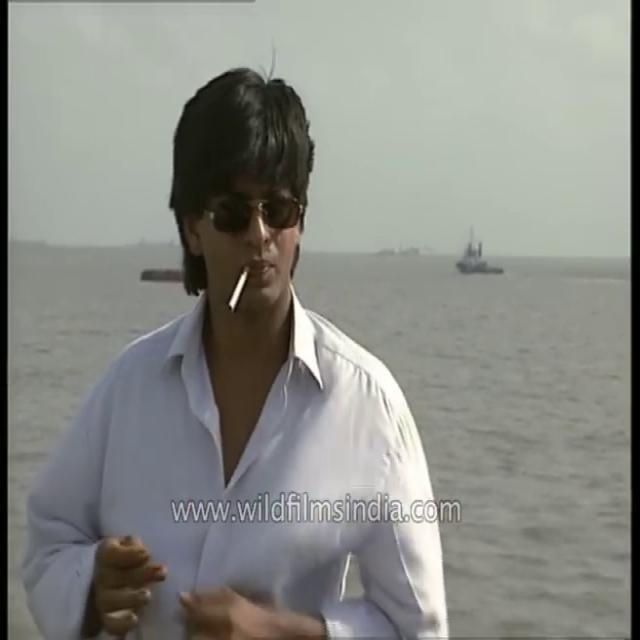Smooking: (222, 266, 255, 322)
